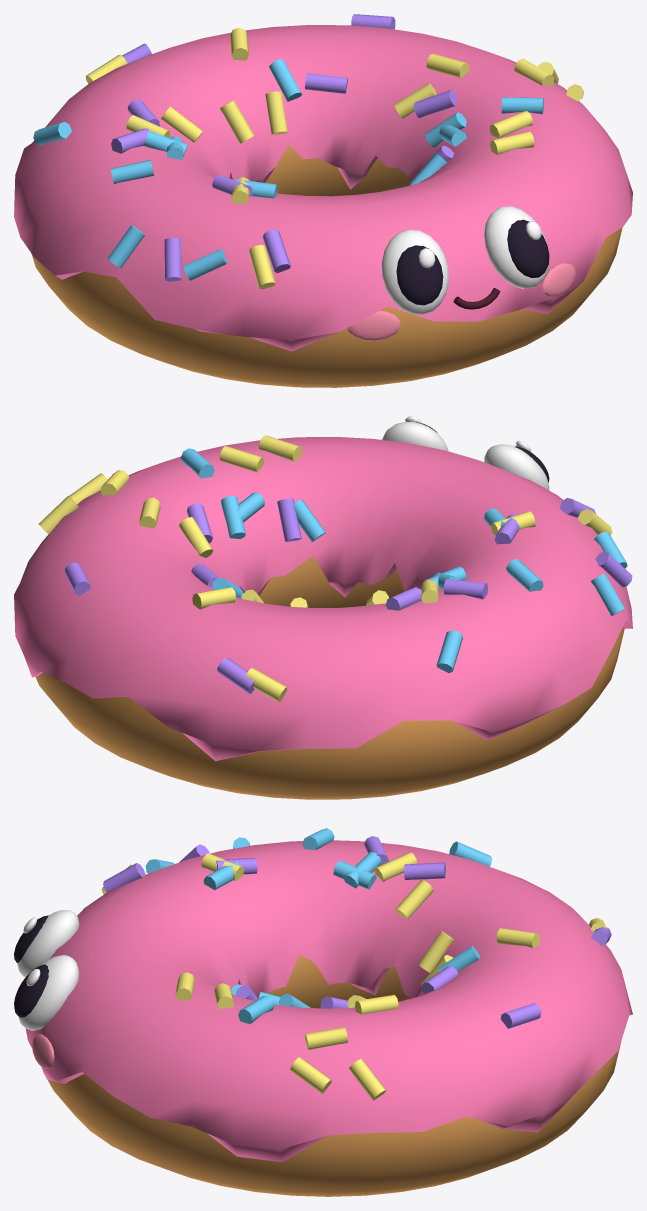
File: Donut.fbx
3 views of the same model, one above another, from view 1: azimuth 30°, elevation 25°; view 2: azimuth 150°, elevation 25°; view 3: azimuth 270°, elevation 25° (orthographic).
Visible parts, largest first — view 1: Frosting_FF7EB6, Dough_E8A55A, Sprinkles1_FFF27A, Sprinkles2_6FD3FF, Sprinkles3_B48CFF, Eyes_FFFFFF, Pupils_241B2F, Blush_FF8FAB; view 2: Frosting_FF7EB6, Dough_E8A55A, Sprinkles1_FFF27A, Sprinkles2_6FD3FF, Sprinkles3_B48CFF, Eyes_FFFFFF; view 3: Frosting_FF7EB6, Dough_E8A55A, Sprinkles1_FFF27A, Sprinkles2_6FD3FF, Sprinkles3_B48CFF, Eyes_FFFFFF, Pupils_241B2F, Blush_FF8FAB.
Boxes of the visible parts, x1,y1,x2,y2 form: Frosting_FF7EB6: (14, 25, 632, 351); Dough_E8A55A: (31, 145, 622, 387); Sprinkles1_FFF27A: (85, 27, 583, 289); Sprinkles2_6FD3FF: (33, 59, 543, 280); Sprinkles3_B48CFF: (111, 14, 456, 281); Eyes_FFFFFF: (381, 206, 549, 314); Pupils_241B2F: (396, 219, 549, 305); Blush_FF8FAB: (348, 262, 575, 340); Frosting_FF7EB6: (14, 437, 632, 761); Dough_E8A55A: (35, 555, 624, 799); Sprinkles1_FFF27A: (38, 435, 612, 701); Sprinkles2_6FD3FF: (181, 448, 627, 673); Sprinkles3_B48CFF: (65, 498, 632, 693); Eyes_FFFFFF: (382, 422, 549, 490); Frosting_FF7EB6: (25, 840, 632, 1162); Dough_E8A55A: (43, 955, 621, 1196); Sprinkles1_FFF27A: (101, 852, 606, 1100); Sprinkles2_6FD3FF: (145, 828, 492, 1024); Sprinkles3_B48CFF: (103, 836, 611, 1028); Eyes_FFFFFF: (17, 910, 79, 1030); Pupils_241B2F: (14, 915, 49, 1017); Blush_FF8FAB: (32, 1034, 54, 1068).
Size of the model in its own units: 2.26 by 0.7365 by 2.3.
